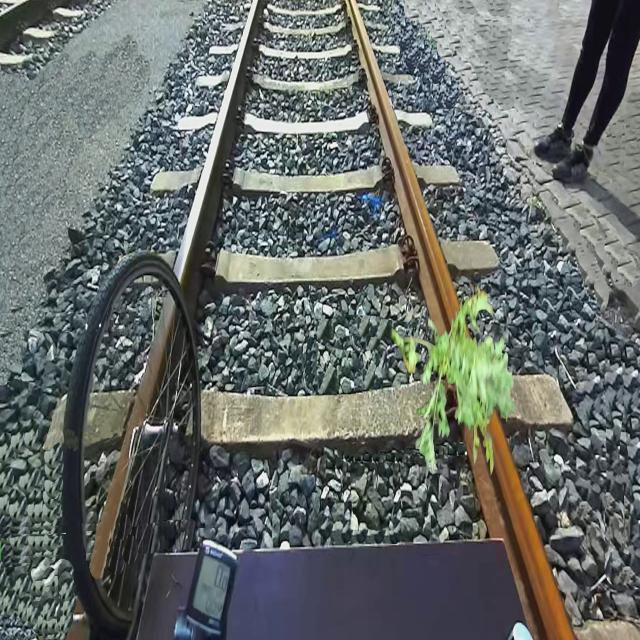Plant: (392, 282, 517, 478)
